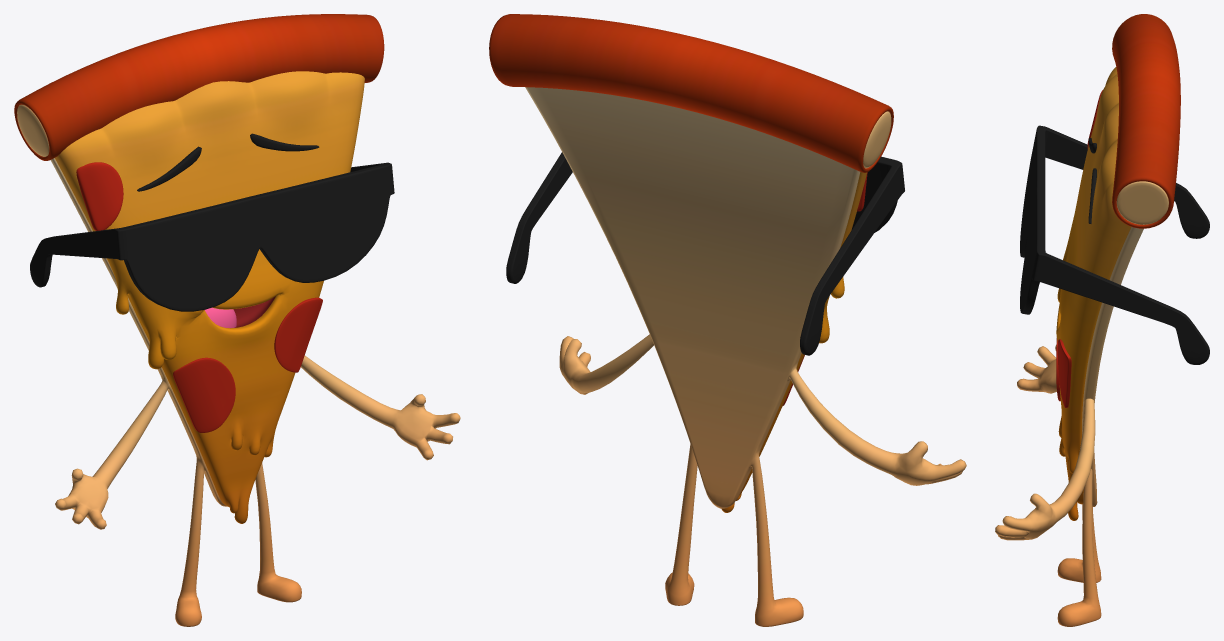
Rendered from PizzaSteve.FBX.
3 renders of one model, left to right at view 1: azimuth 30°, elevation 25°; view 2: azimuth 150°, elevation 25°; view 3: azimuth 270°, elevation 25°, orthographic. The views are drawn at different scales.
Parts seen in each view (by area): view 1: Plane004, Plane006, Cylinder001, Plane003, Cylinder004, Cylinder005, Cylinder006; view 2: Plane003, Cylinder001, Plane006, Plane004; view 3: Cylinder001, Plane004, Plane006, Plane003, Cylinder006.
Boxes of the visible parts, <box> form: Plane004: <box>55,71,364,523</box>; Plane006: <box>30,162,394,311</box>; Cylinder001: <box>14,14,384,160</box>; Plane003: <box>50,158,460,626</box>; Cylinder004: <box>173,357,235,432</box>; Cylinder005: <box>76,162,123,230</box>; Cylinder006: <box>274,297,322,372</box>; Plane003: <box>525,87,966,626</box>; Cylinder001: <box>489,14,893,172</box>; Plane006: <box>506,152,904,355</box>; Plane004: <box>721,172,866,512</box>; Cylinder001: <box>1112,14,1180,228</box>; Plane004: <box>1056,67,1131,520</box>; Plane006: <box>1020,125,1209,364</box>; Plane003: <box>995,227,1143,626</box>; Cylinder006: <box>1057,339,1071,407</box>.
Bounding box in the file's own units: 75.67 × 102 × 37.86.
8 materials, 3 textured.
